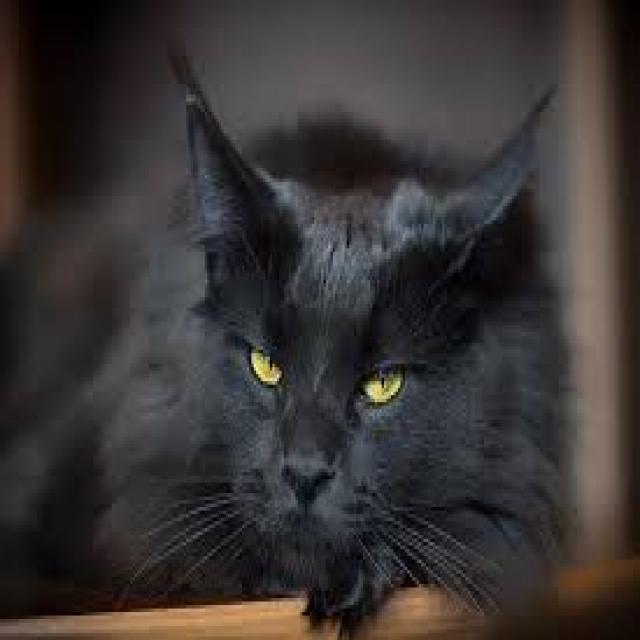Cat: (0, 49, 583, 628)
